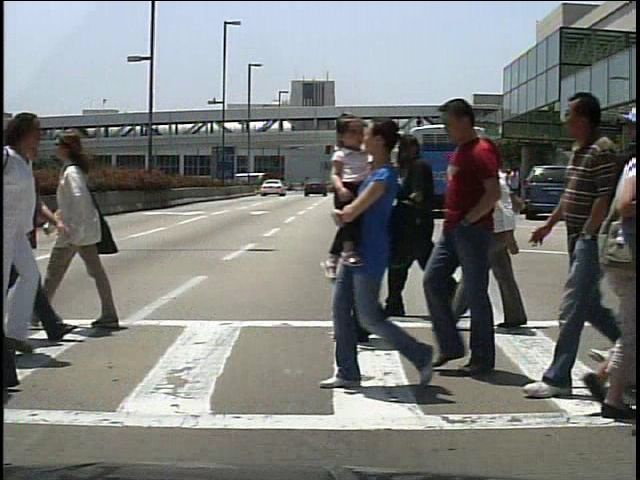person: (316, 119, 420, 347), (439, 100, 522, 377), (45, 117, 139, 341), (2, 113, 65, 366), (384, 130, 456, 322), (467, 139, 536, 339), (582, 168, 602, 218), (492, 164, 510, 216)
